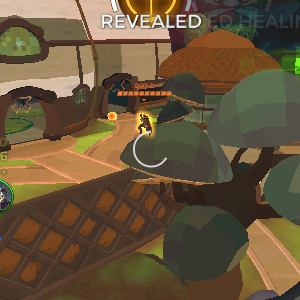model: (134, 105, 158, 140)
